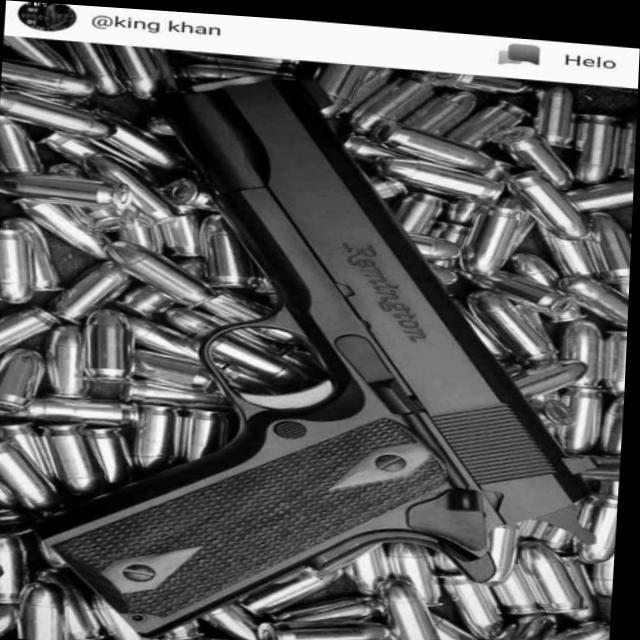weapon: (24, 43, 638, 640)
